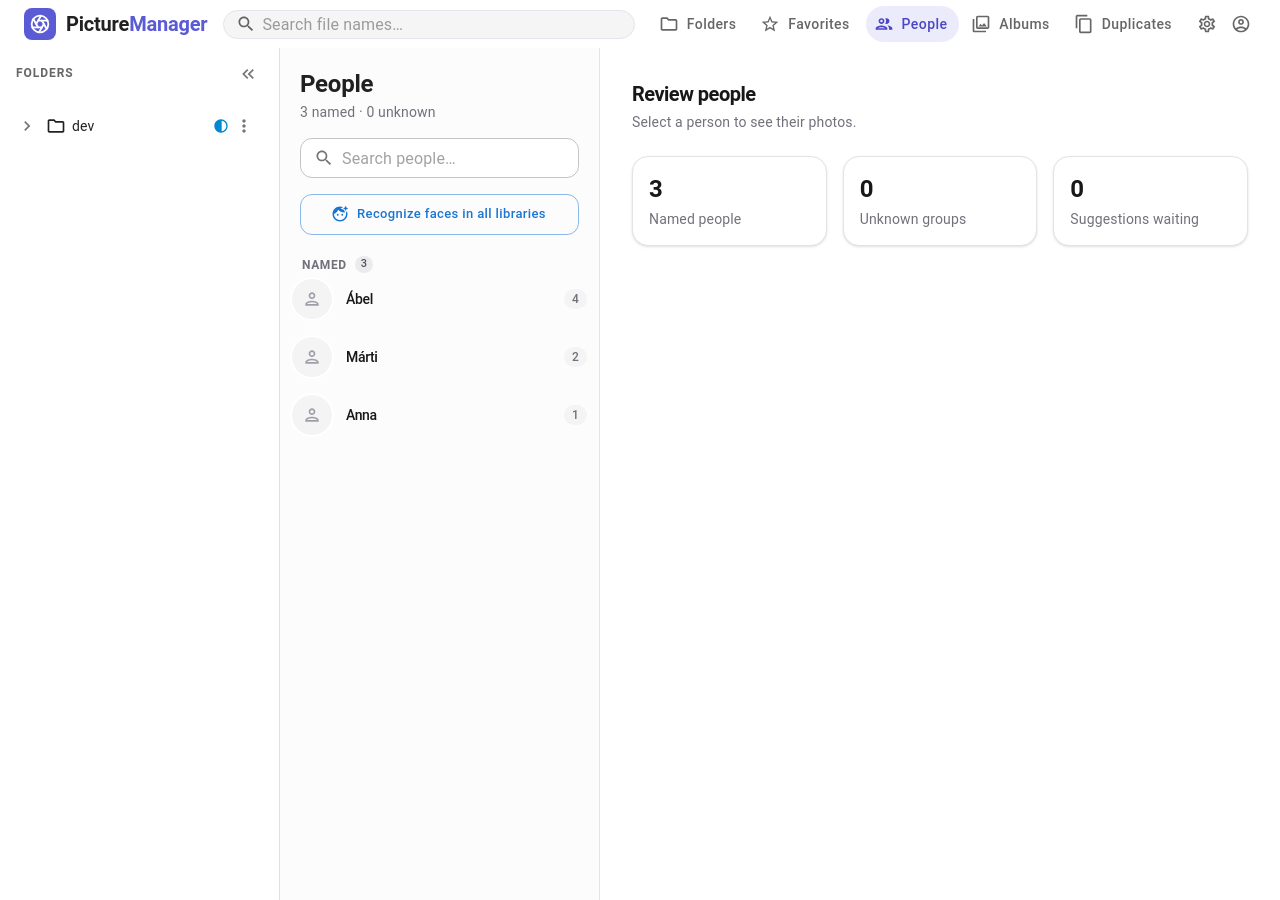
Test: PeoplePage › matches names without their accents, and the x clears the search
Expected: the link "Ábel 4" is shown, [292,279,587,319]
In the field labelled "Search people": coordinates (460, 158) [342,138,579,178], type "abel"
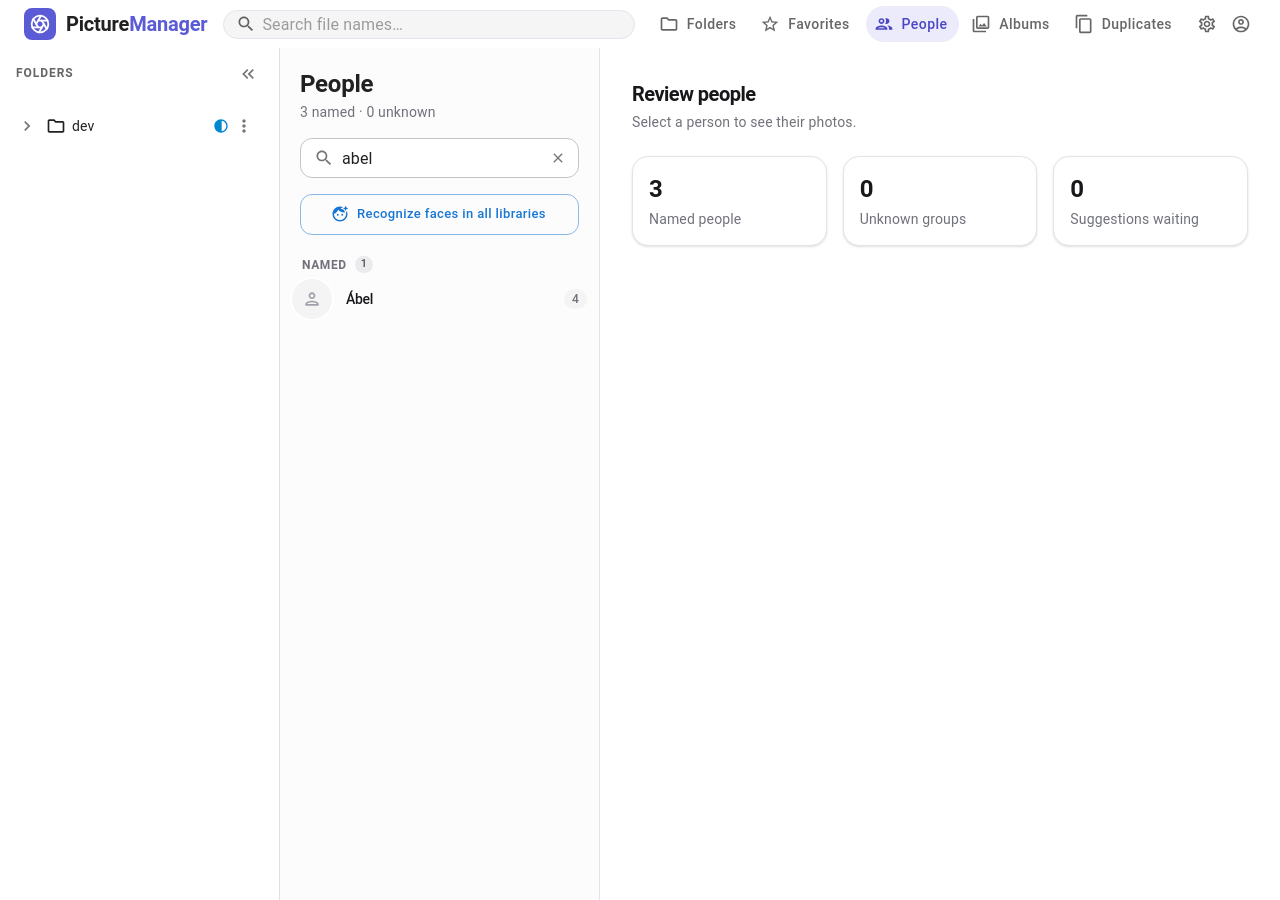
Expected: the link "Ábel 4" is shown, [292,279,587,319]
Result: the link "Márti" is gone
Replace the text in the field named "Search people" with "Ma": coordinates (441, 158) [342,138,540,178]
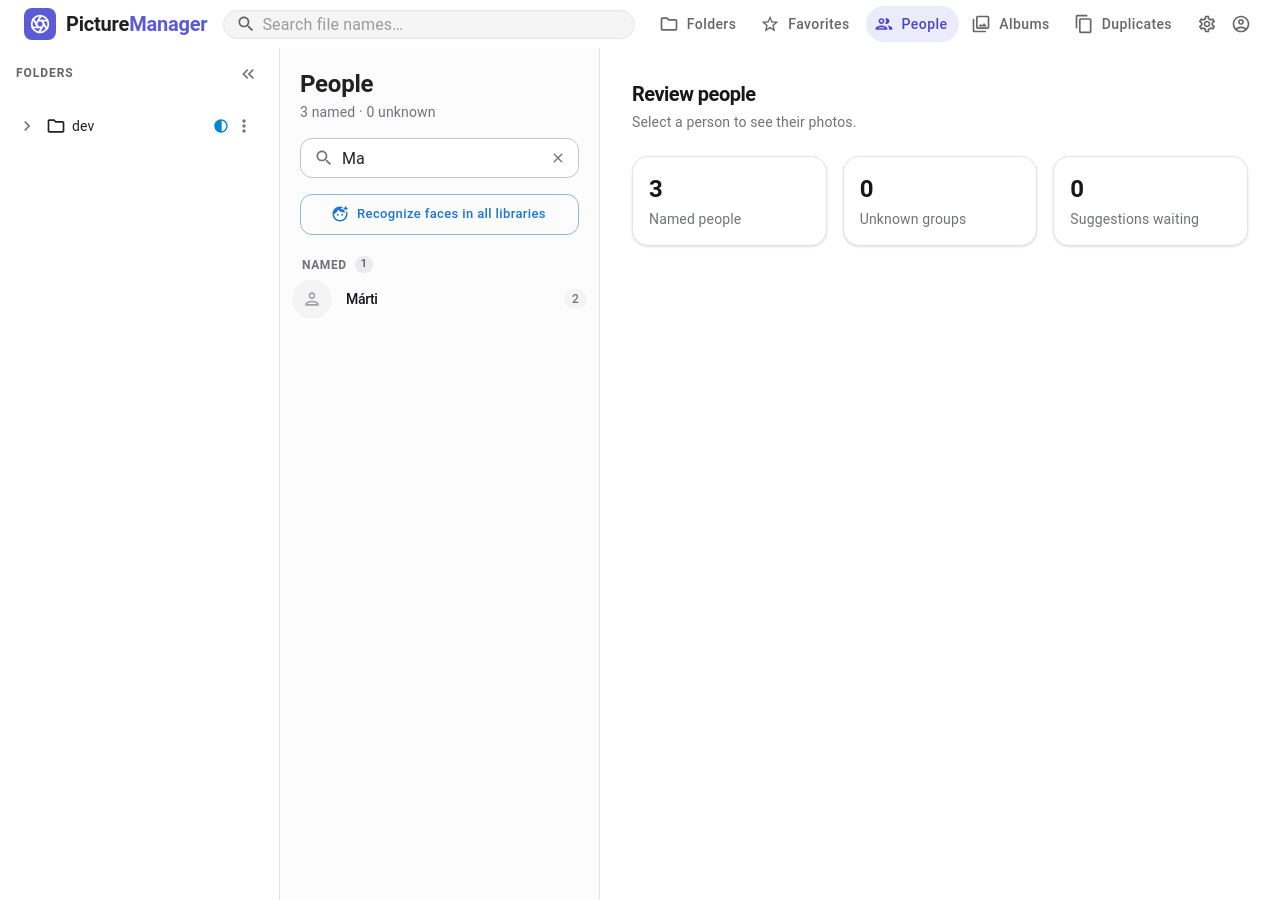
Result: the link "Márti 2" is shown at [292,279,587,319]
Result: the link "Ábel" is gone
Click the button named "Clear search": coordinates (558, 158) [548,148,568,168]
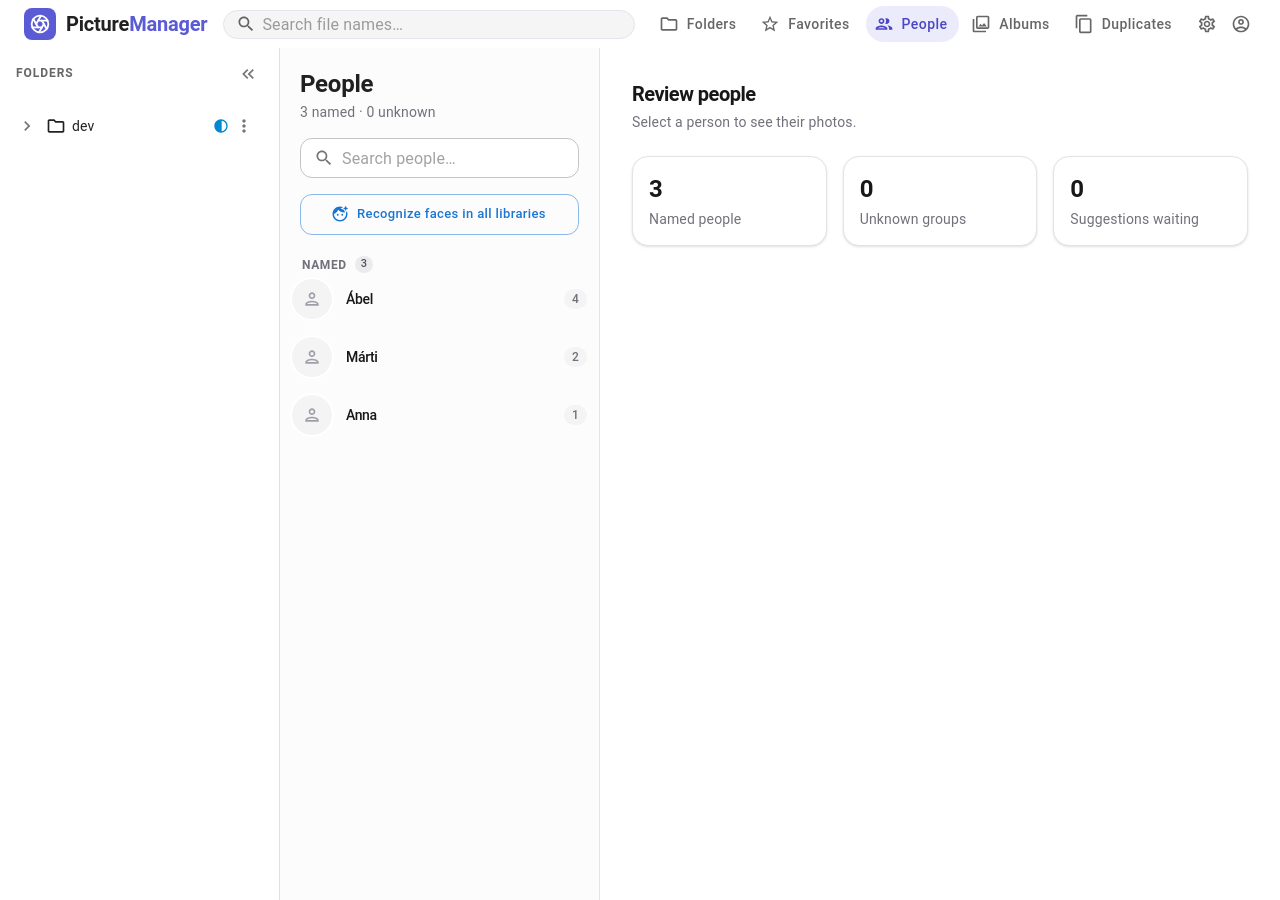
Result: the field labelled "Search people" is empty at [342,138,579,178]
Result: the link "Ábel 4" is shown at [292,279,587,319]
